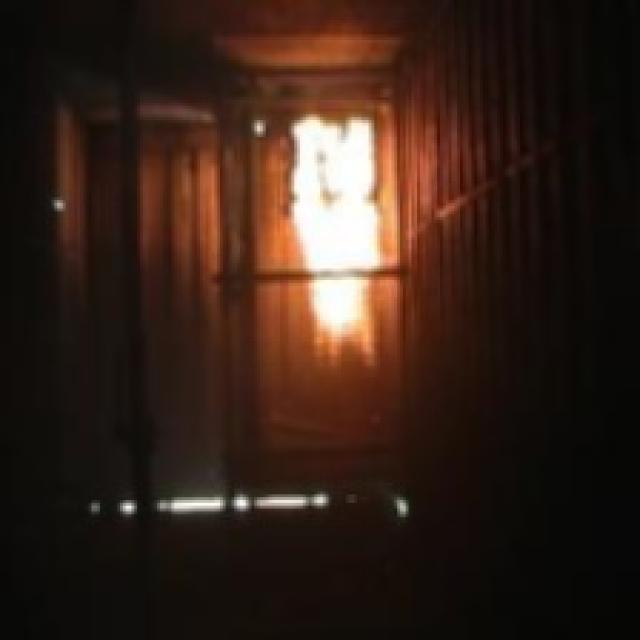fire: (278, 116, 398, 370)
